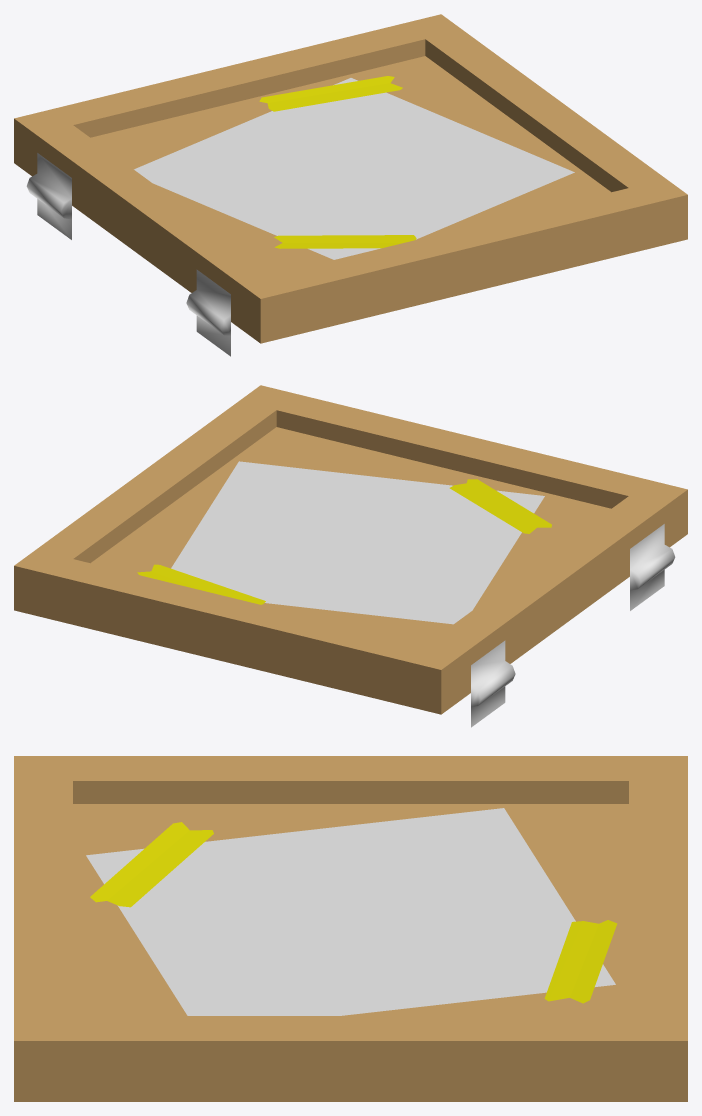
The model's file is box108270753futa.fbx.
3 renders of one model, top to bottom at view 1: azimuth 30°, elevation 25°; view 2: azimuth 150°, elevation 25°; view 3: azimuth 270°, elevation 25°, orthographic. The views are drawn at different scales.
Parts seen in each view (by area): view 1: ふた, 張り紙, 蝶番, テープ; view 2: ふた, 張り紙, 蝶番, テープ; view 3: ふた, 張り紙, テープ.
Boxes of the visible parts, x1,y1,x2,y2 form: ふた: (14, 14, 687, 343); 張り紙: (134, 78, 574, 259); 蝶番: (26, 153, 230, 356); テープ: (259, 76, 416, 248); ふた: (14, 385, 687, 714); 張り紙: (171, 461, 544, 624); 蝶番: (471, 524, 675, 727); テープ: (137, 479, 551, 604); ふた: (14, 756, 687, 1101); 張り紙: (86, 808, 615, 1015); テープ: (90, 822, 617, 1003).
Bounding box in the file's own units: 3.9 × 0.6461 × 3.78.
